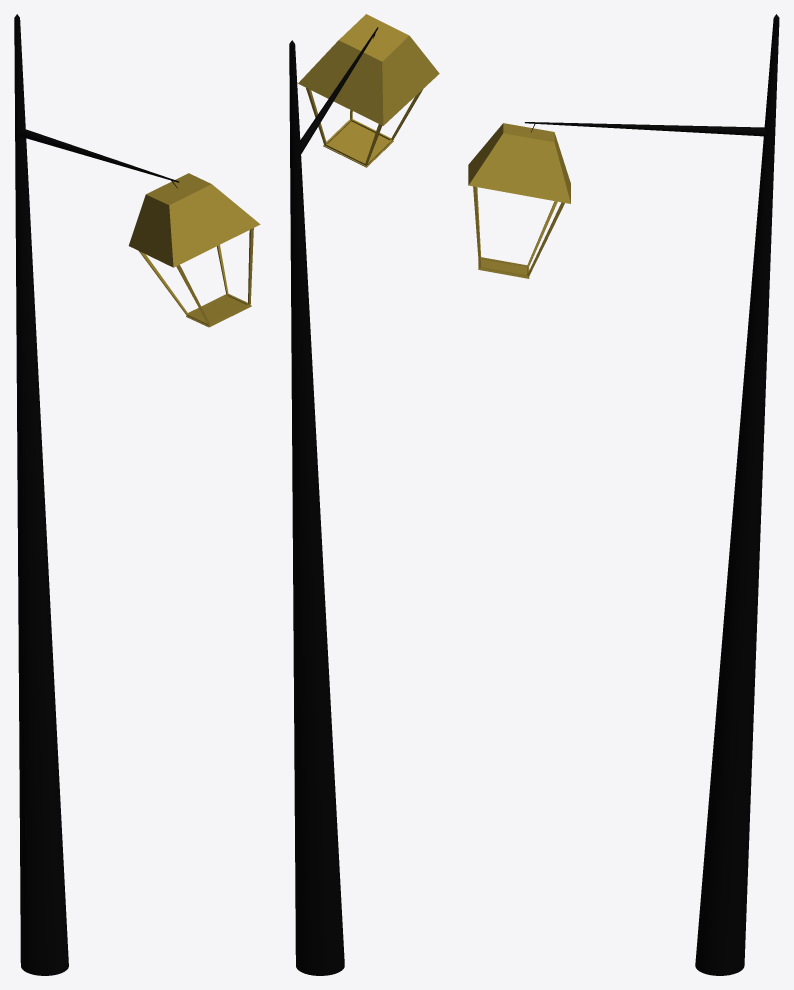
File: Lampione.fbx
The picture shows the model from 3 angles, left to right: view 1: azimuth 30°, elevation 25°; view 2: azimuth 150°, elevation 25°; view 3: azimuth 270°, elevation 25°; orthographic projection. The views are drawn at different scales.
Visible parts, largest first — view 1: Base, Cappello, Gabbia; view 2: Base, Cappello, Gabbia; view 3: Base, Cappello, Gabbia.
Boxes of the visible parts, x1=… form: Base: x1=14, y1=14, x2=179, y2=975; Cappello: x1=128, y1=173, x2=260, y2=327; Gabbia: x1=139, y1=228, x2=253, y2=325; Base: x1=289, y1=27, x2=378, y2=975; Cappello: x1=298, y1=14, x2=439, y2=167; Gabbia: x1=306, y1=88, x2=422, y2=165; Base: x1=524, y1=14, x2=779, y2=975; Cappello: x1=468, y1=123, x2=570, y2=278; Gabbia: x1=473, y1=186, x2=564, y2=277.
Bounding box in the file's own units: 14.87 × 114 × 33.81.
